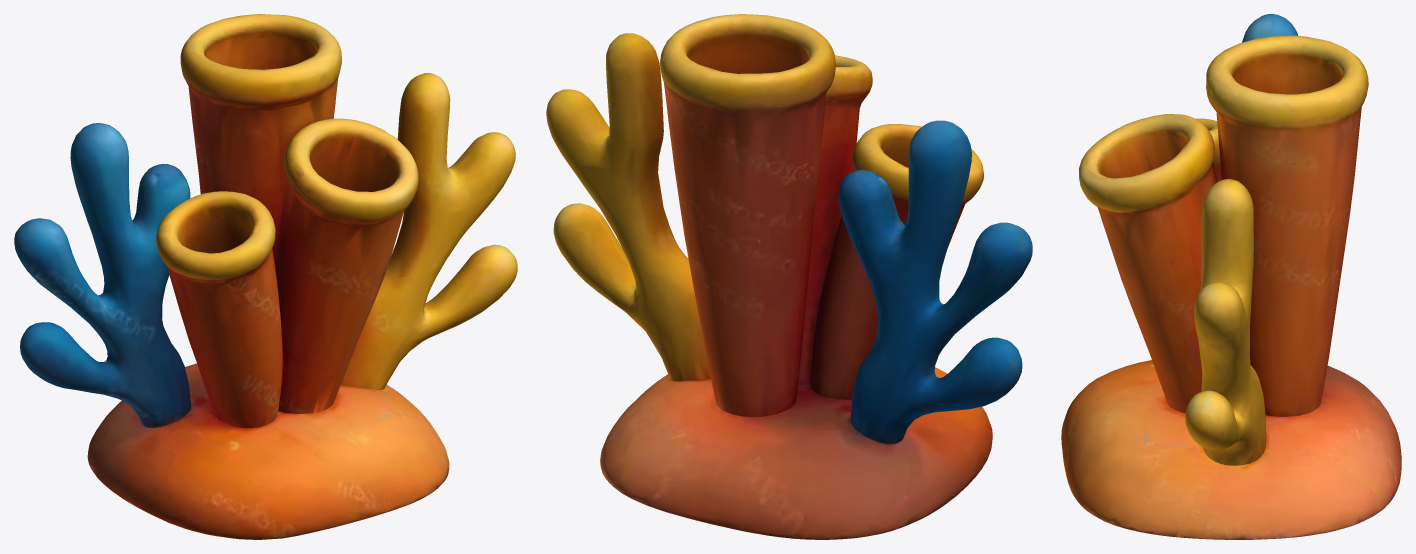
Rendered from coral_pbr.glb.
3 renders of one model, left to right at view 1: azimuth 30°, elevation 25°; view 2: azimuth 150°, elevation 25°; view 3: azimuth 270°, elevation 25°, orthographic. The views are drawn at different scales.
Visible parts, largest first — view 1: model.002; view 2: model.002; view 3: model.002.
Boxes of the visible parts, bbox=[...] form: model.002: bbox=[14, 14, 517, 539]; model.002: bbox=[546, 14, 1032, 539]; model.002: bbox=[1061, 14, 1401, 539].
Size of the model in its own units: 1.3 by 1.06 by 0.7964.
1 material, 1 textured.
